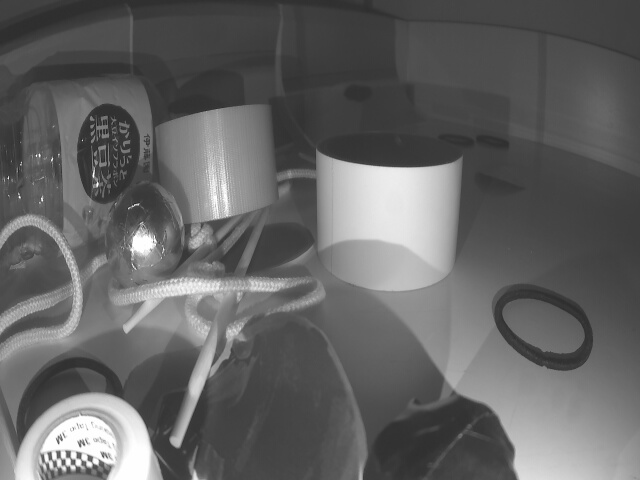Live: (107, 183, 184, 286)
